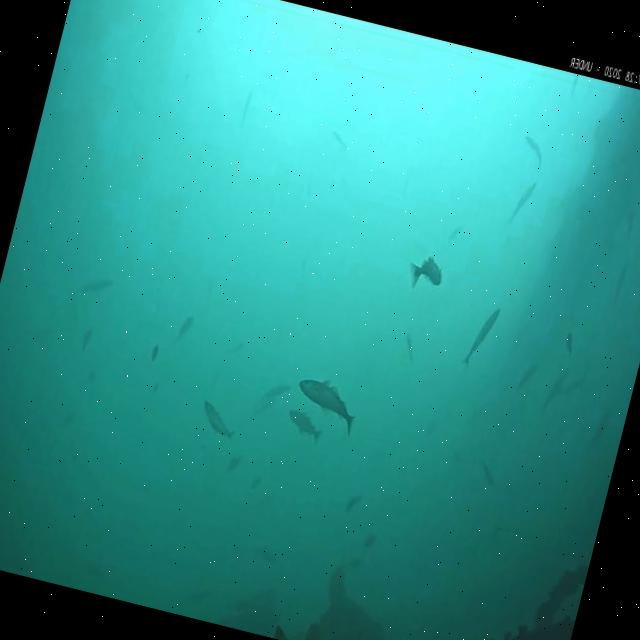fish: (289, 372, 362, 437), (461, 302, 500, 370), (405, 250, 445, 296), (195, 398, 238, 438), (539, 362, 569, 416), (284, 406, 324, 446), (510, 180, 536, 222), (608, 262, 628, 309), (78, 272, 112, 298), (520, 134, 546, 162), (400, 329, 418, 365), (516, 360, 538, 388), (262, 380, 290, 402), (238, 90, 252, 126), (478, 467, 498, 489), (344, 492, 364, 514), (328, 130, 349, 147), (561, 334, 576, 356), (568, 74, 578, 98)
